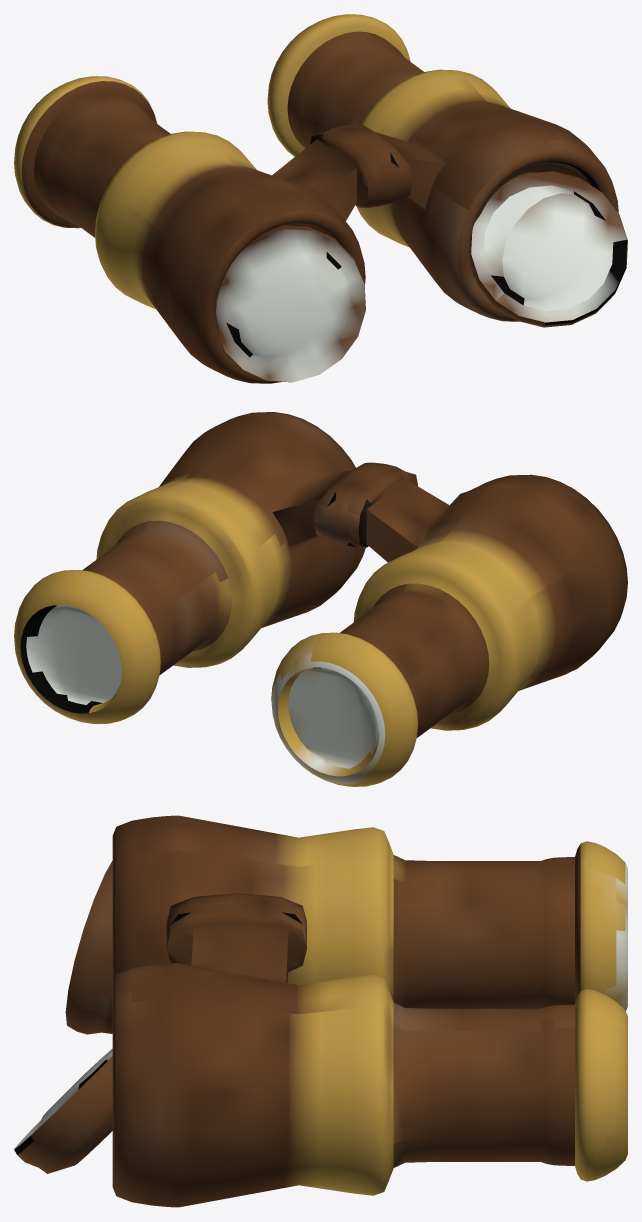
File: BinoculosQuebrado.fbx
3 renders of one model, top to bottom at view 1: azimuth 30°, elevation 25°; view 2: azimuth 150°, elevation 25°; view 3: azimuth 270°, elevation 25°, orthographic. The views are drawn at different scales.
Parts seen in each view (by area): view 1: BinoculosQuebrado_LOD0; view 2: BinoculosQuebrado_LOD0; view 3: BinoculosQuebrado_LOD0.
Part boxes in pixels (x1=…): BinoculosQuebrado_LOD0: x1=14, y1=14, x2=627, y2=383; BinoculosQuebrado_LOD0: x1=14, y1=412, x2=627, y2=786; BinoculosQuebrado_LOD0: x1=14, y1=815, x2=627, y2=1207.
Size of what is drawn, in the model's own units: 42.47 by 17.52 by 43.85.
